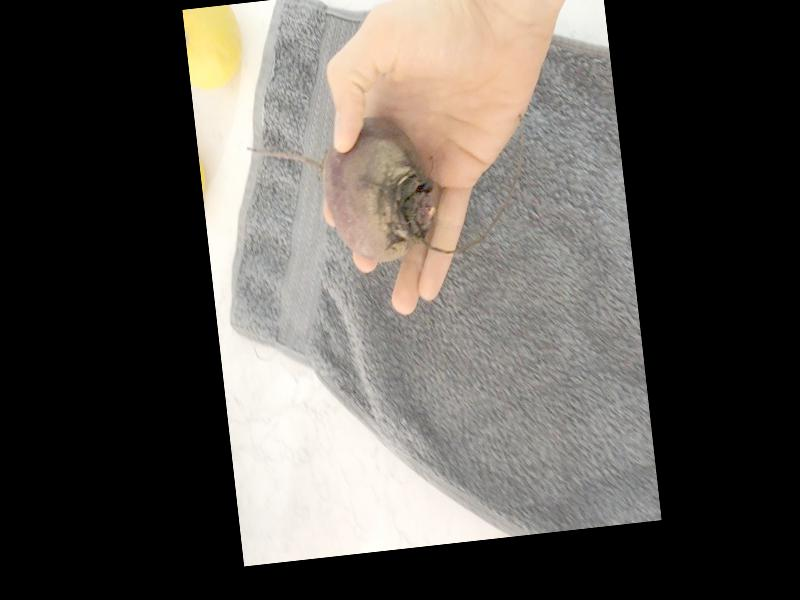Beet: (245, 110, 446, 273)
